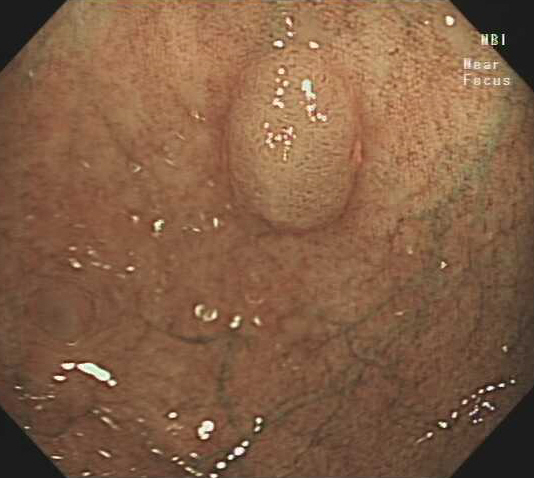adenoma: (222, 41, 364, 238)
